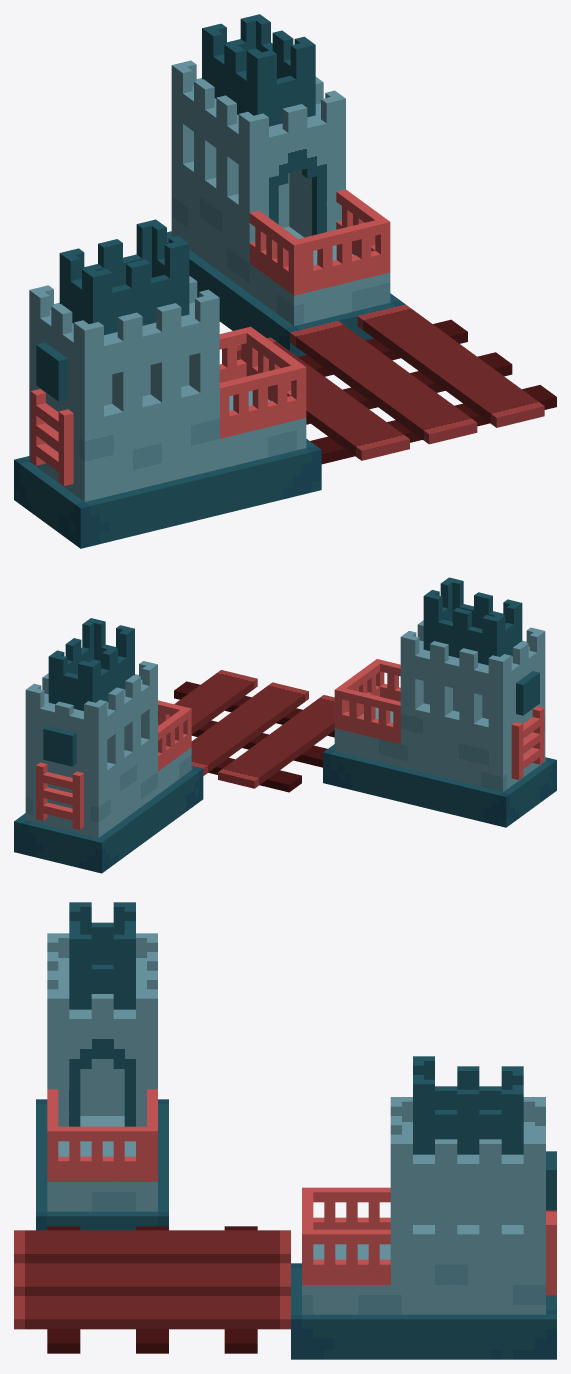
The model's file is bridge.gltf.
The picture shows the model from 3 angles, top to bottom: view 1: azimuth 30°, elevation 25°; view 2: azimuth 150°, elevation 25°; view 3: azimuth 270°, elevation 25°; orthographic projection. The views are drawn at different scales.
Parts seen in each view (by area): view 1: bridge-Local; view 2: bridge-Local; view 3: bridge-Local.
Boxes of the visible parts, x1=… form: bridge-Local: x1=14, y1=14, x2=556, y2=548; bridge-Local: x1=14, y1=577, x2=556, y2=873; bridge-Local: x1=14, y1=902, x2=556, y2=1359.
Size of the model in its own units: 50 by 26 by 49.
1 material, 1 textured.
